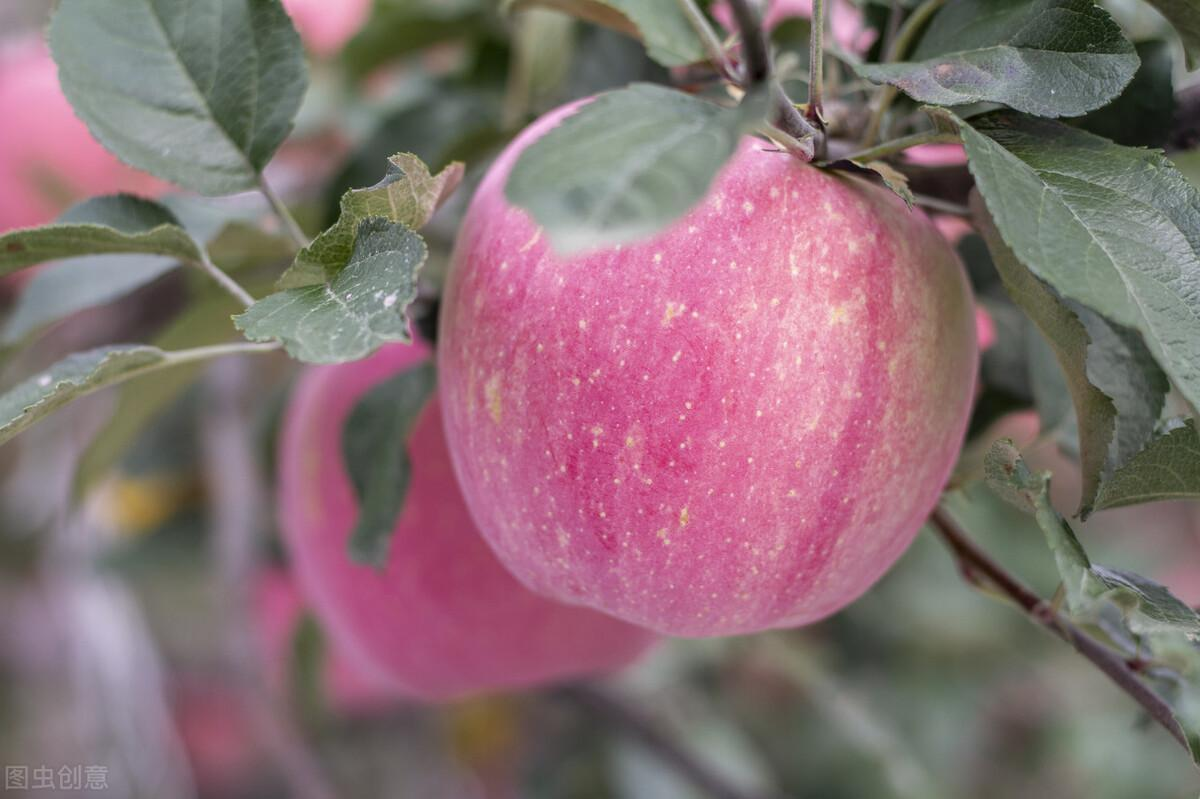apple: (434, 90, 991, 637)
